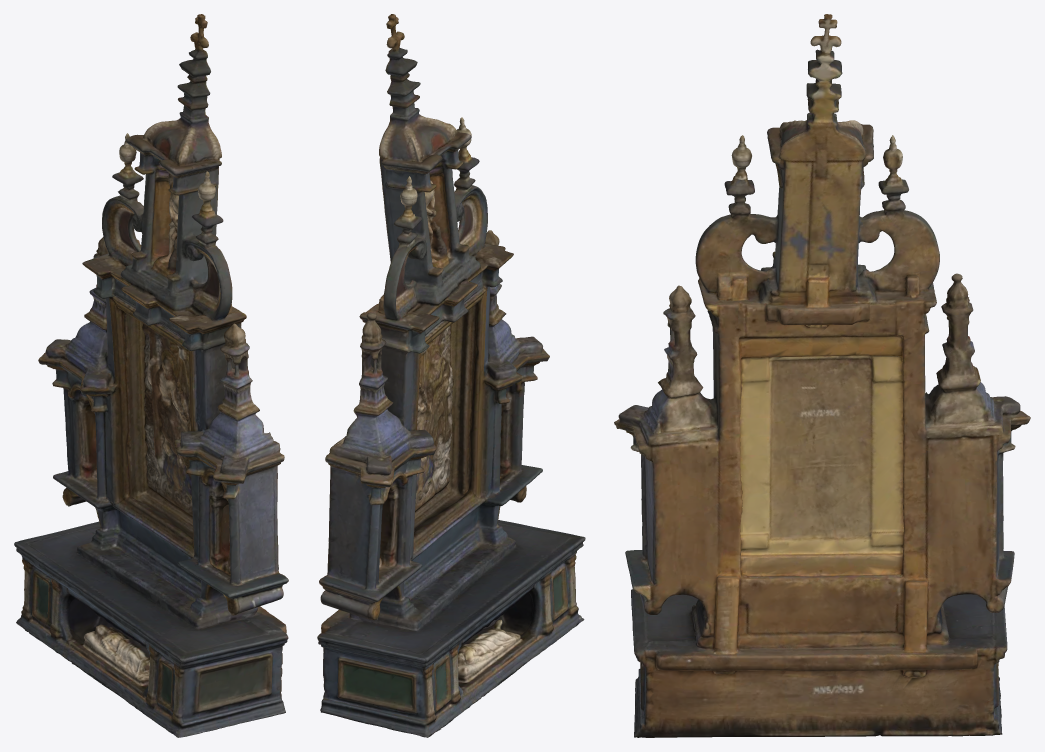
File: retable_from_a_chapel_in_falkowa.glb
3 views of the same model, side by side, from view 1: azimuth 30°, elevation 25°; view 2: azimuth 150°, elevation 25°; view 3: azimuth 270°, elevation 25° (orthographic). The views are drawn at different scales.
Parts seen in each view (by area): view 1: Object_2; view 2: Object_2; view 3: Object_2.
Part boxes in pixels (x1,y1,x2,y2): Object_2: (14,14,288,737); Object_2: (317,14,585,737); Object_2: (614,14,1030,737).
Bounding box in the file's own units: 1.07 × 5.29 × 2.76.
Materials: 1 (1 with a texture image).
